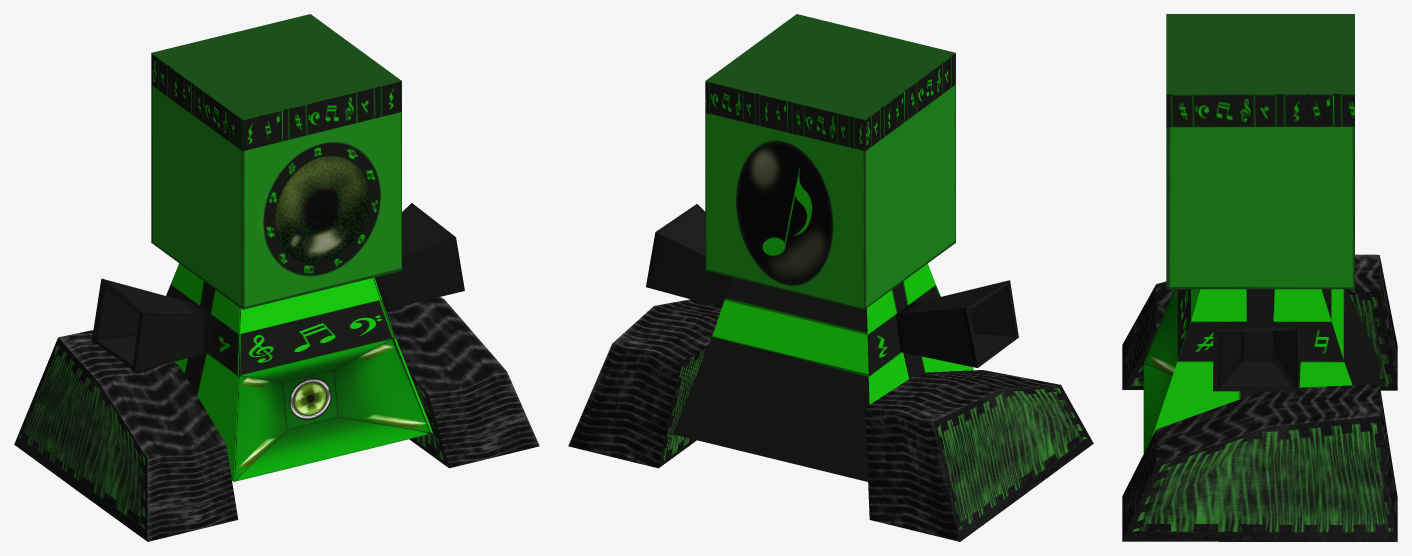
Rendered from Gro.fbx.
3 views of the same model, side by side, from view 1: azimuth 30°, elevation 25°; view 2: azimuth 150°, elevation 25°; view 3: azimuth 270°, elevation 25° (orthographic). The views are drawn at different scales.
Visible parts, largest first — view 1: polySurface13, polySurface15, polySurface17; view 2: polySurface13, polySurface15, polySurface17; view 3: polySurface13, polySurface17, polySurface15.
Boxes of the visible parts, x1,y1,x2,y2 form: polySurface13: (151, 14, 401, 309); polySurface15: (92, 203, 464, 481); polySurface17: (14, 297, 539, 541); polySurface13: (705, 14, 955, 309); polySurface15: (646, 204, 1018, 481); polySurface17: (568, 299, 1093, 541); polySurface13: (1166, 14, 1354, 289); polySurface17: (1122, 254, 1397, 541); polySurface15: (1143, 289, 1380, 453).
Bounding box in the file's own units: 34.37 × 31.71 × 20.3.
